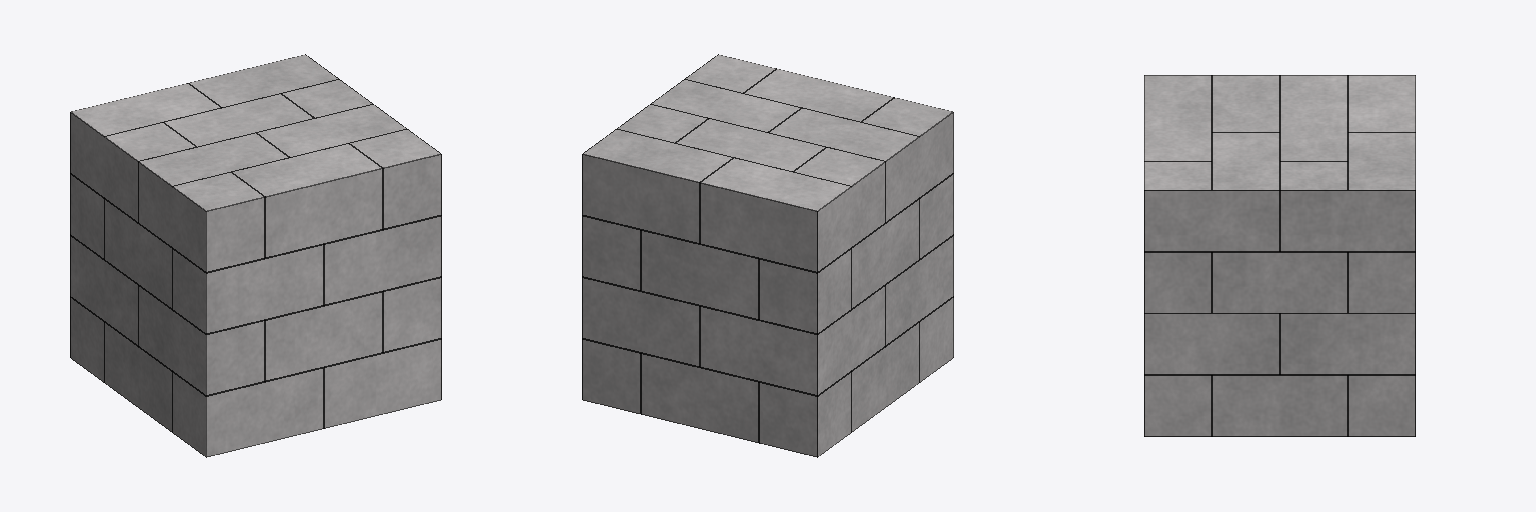
3 renders of one model, left to right at view 1: azimuth 30°, elevation 25°; view 2: azimuth 150°, elevation 25°; view 3: azimuth 270°, elevation 25°, orthographic.
Visible parts, largest first — view 1: Cube; view 2: Cube; view 3: Cube.
Boxes of the visible parts, box(x1,y1,x2,y2) form: Cube: box(70, 54, 441, 457); Cube: box(582, 54, 953, 457); Cube: box(1144, 75, 1415, 436).
Size of the model in its own units: 1.01 by 1.01 by 1.01.
2 materials, 1 textured.